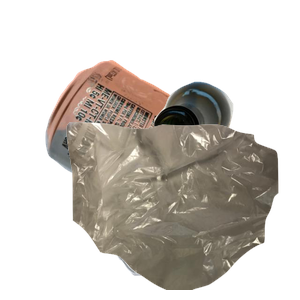glass: (151, 79, 300, 221)
metal: (43, 58, 283, 238)
plastic: (77, 133, 289, 300)
trash: (64, 120, 300, 300)
